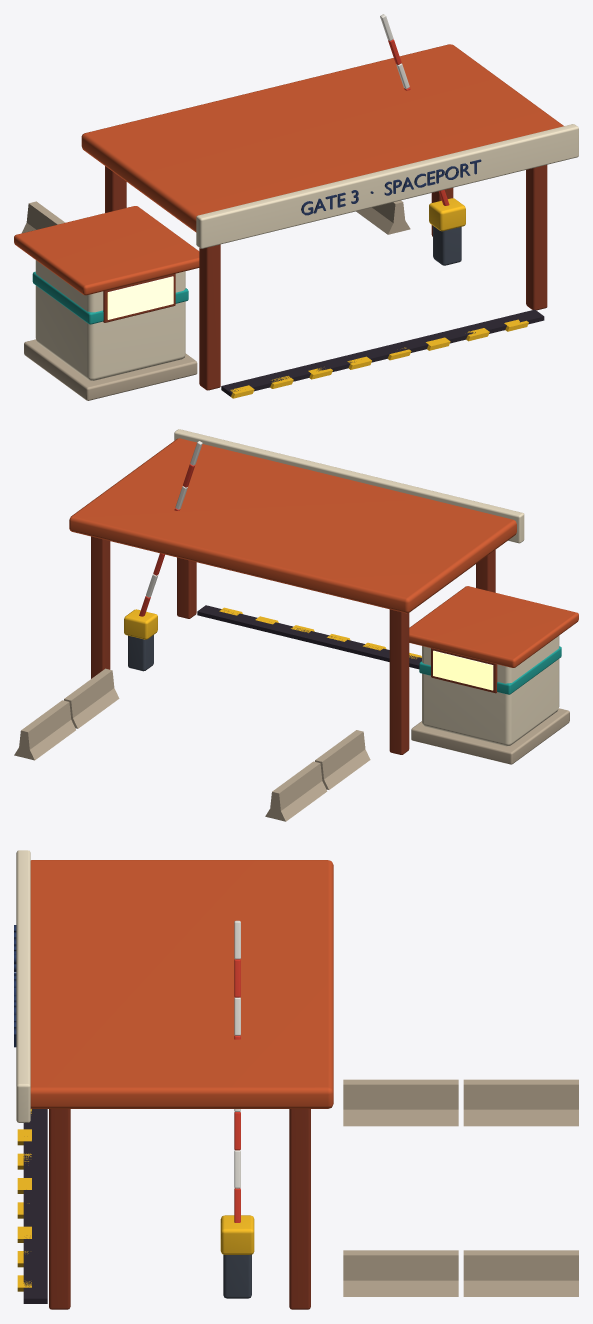
The model's file is dune_gatehouse.glb.
3 renders of one model, top to bottom at view 1: azimuth 30°, elevation 25°; view 2: azimuth 150°, elevation 25°; view 3: azimuth 270°, elevation 25°, orthographic. The views are drawn at different scales.
Visible parts, largest first — view 1: Gatehouse; view 2: Gatehouse; view 3: Gatehouse.
Boxes of the visible parts, bbox=[...] form: Gatehouse: bbox=[14, 14, 578, 400]; Gatehouse: bbox=[14, 429, 578, 821]; Gatehouse: bbox=[14, 850, 578, 1309].
Bounding box in the file's own units: 14.3 × 7.69 × 11.75.
